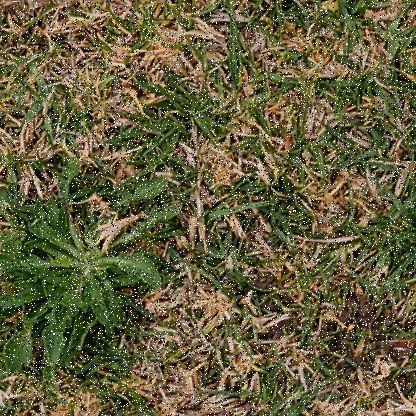Weeds: (1, 162, 183, 372)
